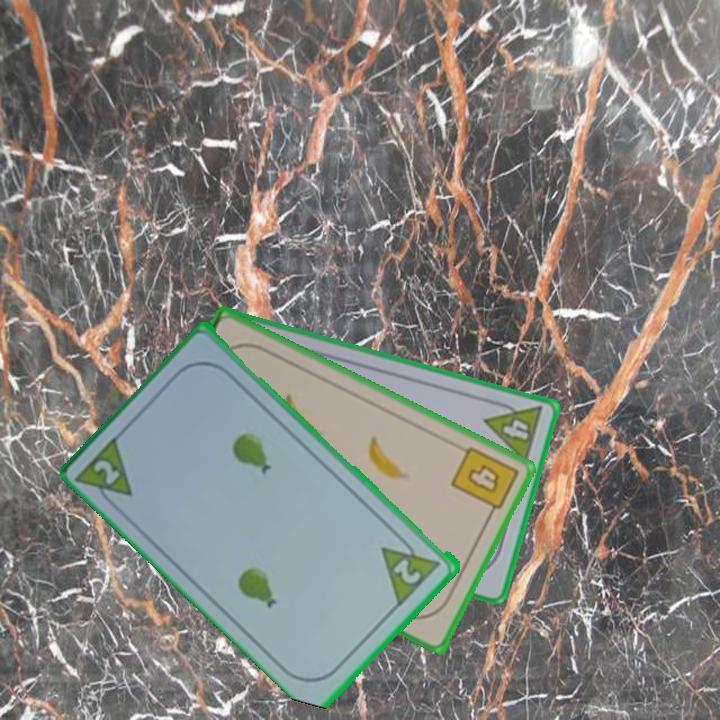2p: (378, 529, 445, 607), (90, 456, 124, 488)
4b: (447, 442, 522, 522)
4p: (481, 395, 545, 467)
